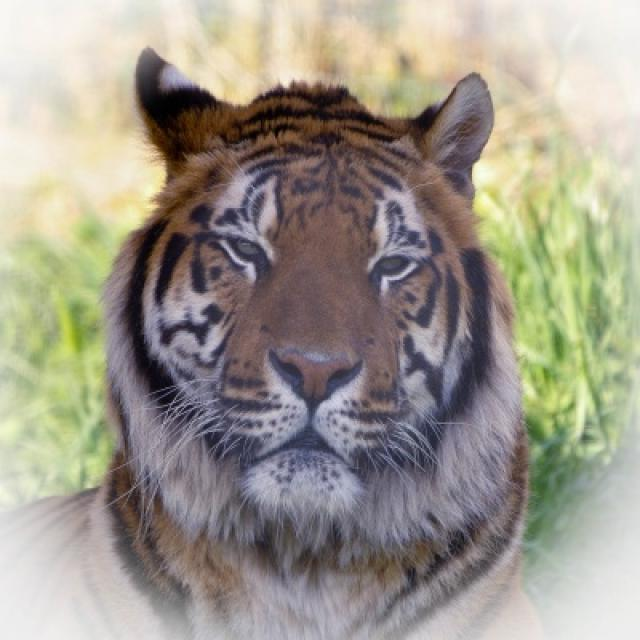Tiger: (0, 50, 536, 638)
